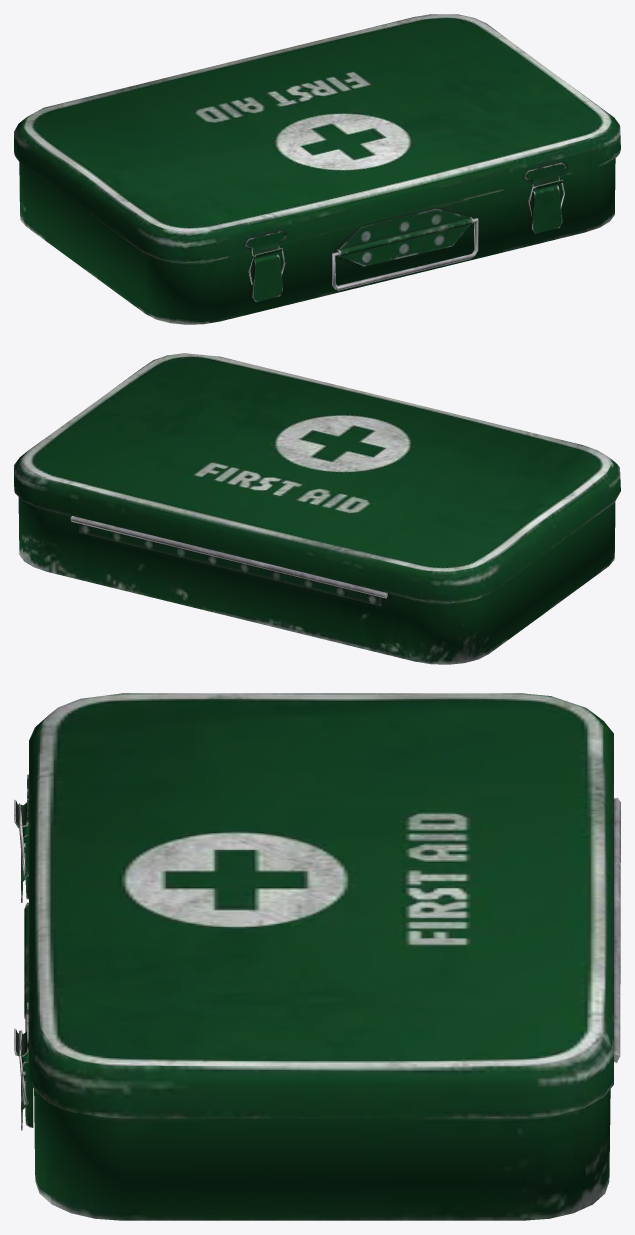
Rendered from ph_medical_box.glb.
3 renders of one model, top to bottom at view 1: azimuth 30°, elevation 25°; view 2: azimuth 150°, elevation 25°; view 3: azimuth 270°, elevation 25°, orthographic. The views are drawn at different scales.
Visible parts, largest first — view 1: medical_box_latch; view 2: medical_box_latch; view 3: medical_box_latch.
Part boxes in pixels (x1,y1,x2,y2): medical_box_latch: (14, 14, 620, 324); medical_box_latch: (14, 353, 620, 664); medical_box_latch: (14, 693, 620, 1220).
Bounding box in the file's own units: 0.5255 × 0.0967 × 0.3501.
1 material, 1 textured.
